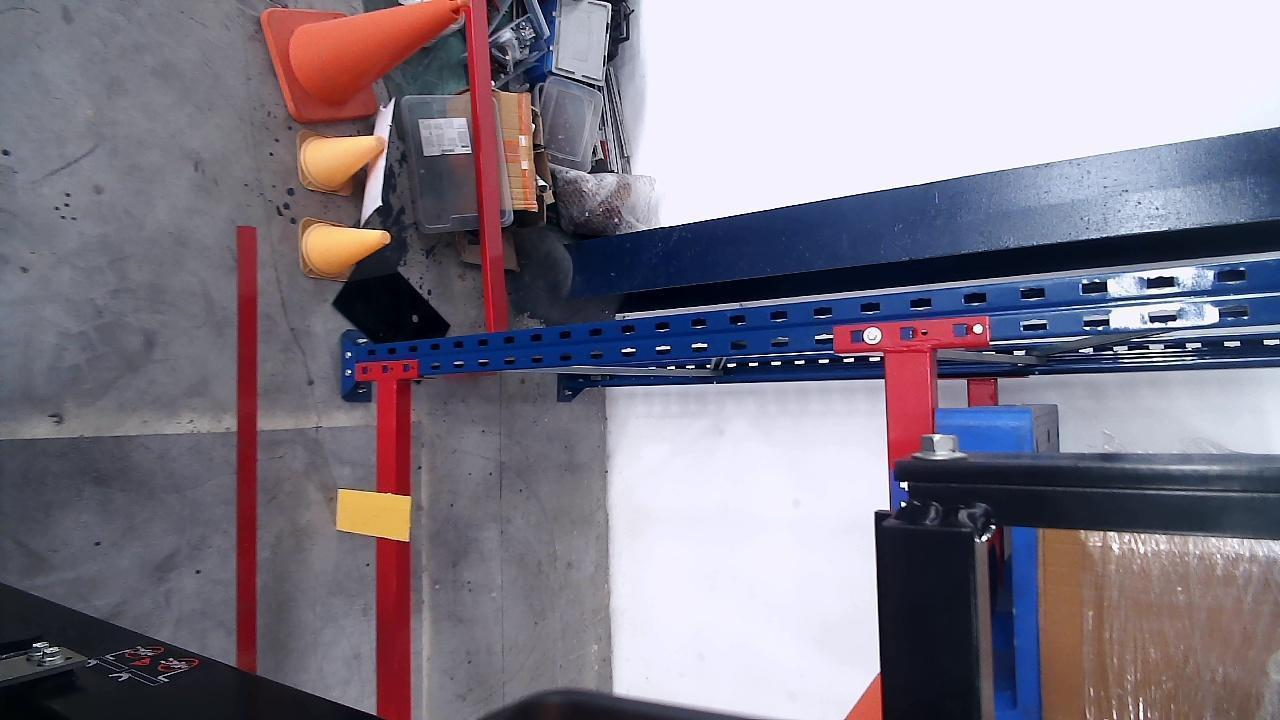red_line: (236, 225, 260, 671), (337, 489, 412, 543)
